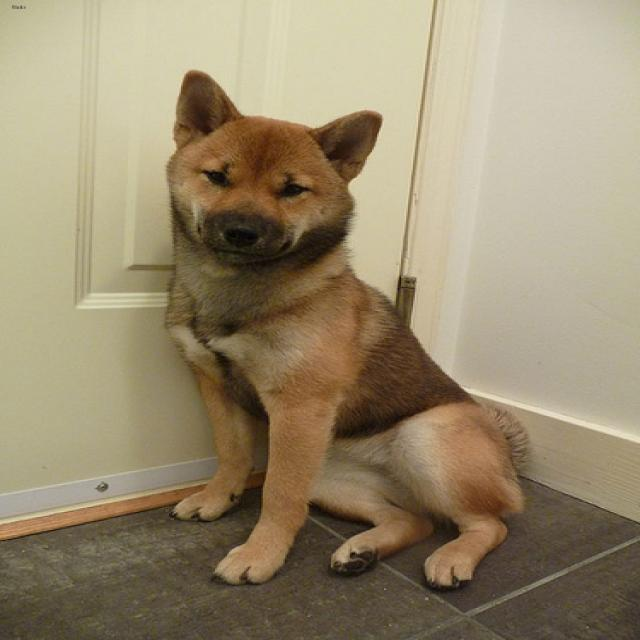dog-shiba_inu: (148, 61, 543, 599)
